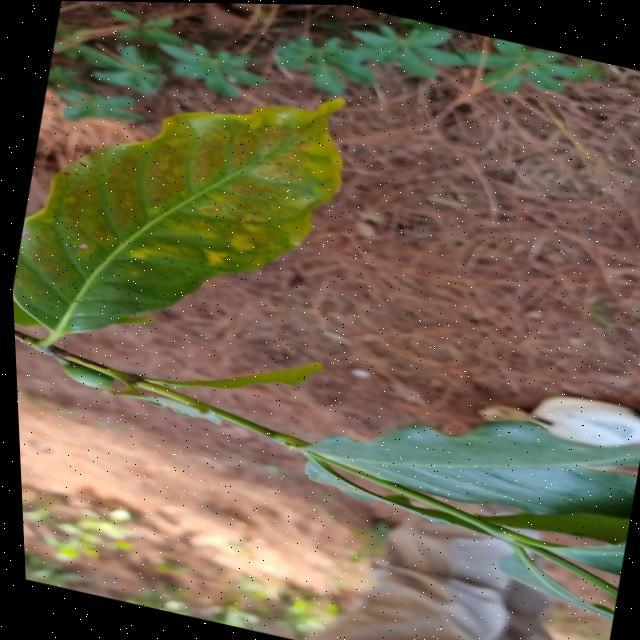leaves: (0, 39, 391, 369)
